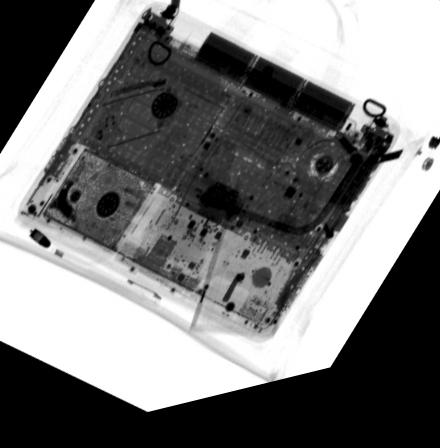Bullet: (27, 228, 50, 250)
